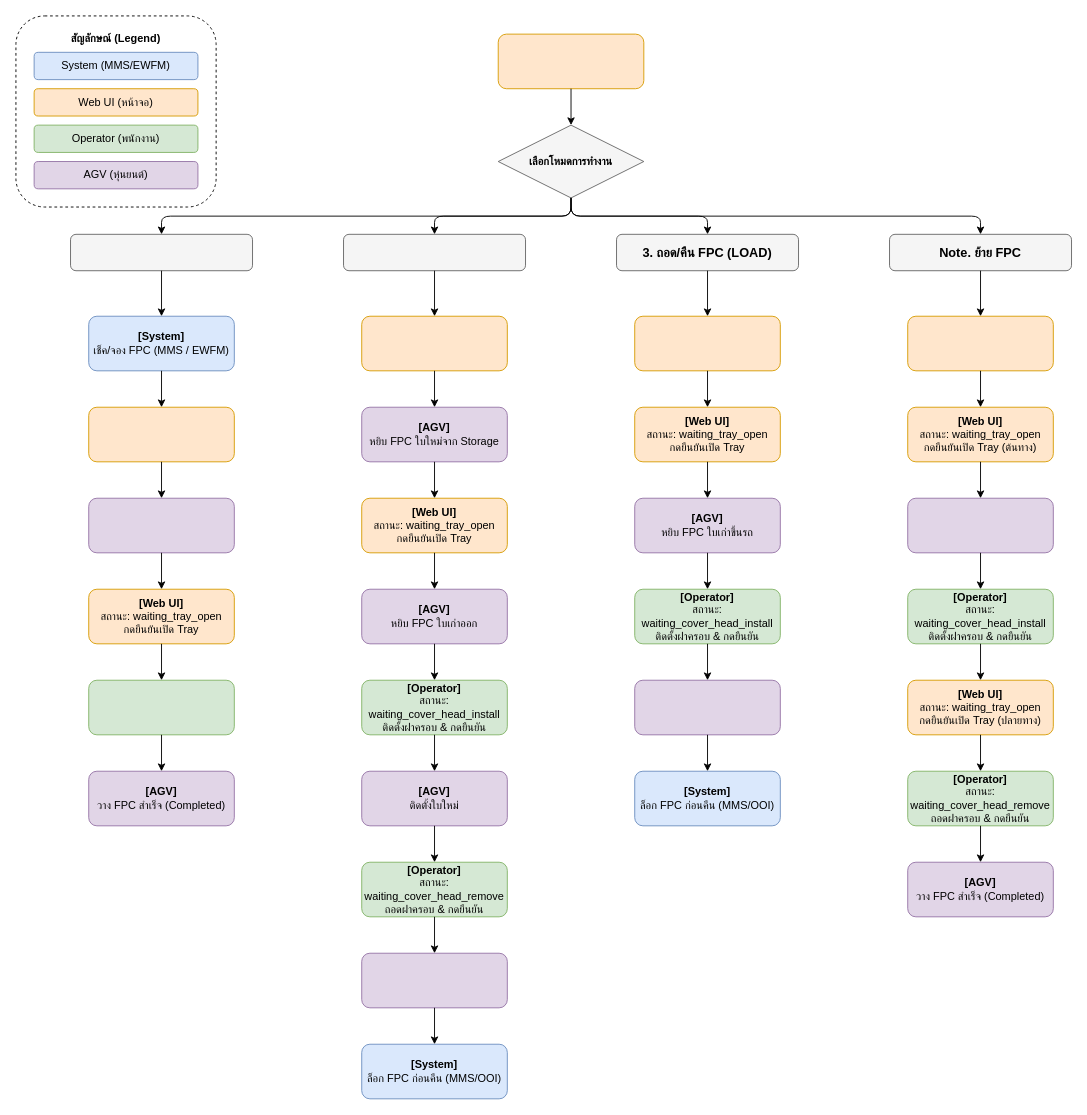
The diagram is 1087 pixels wide and 1115 high, and some of its shapes have lost their labels. Each missing label, with the centre of its shape:
1. เบิก FPC (UNLOAD): point (161, 252)
2. เปลี่ยน FPC (UNLOAD & LOAD): point (434, 252)
[AGV] รับ FPC จาก Smart Storage เคลื่อนไปเครื่องปลายทาง: point (161, 525)
[AGV] หยิบ FPC: point (980, 525)
[AGV] เก็บเข้า Storage (Completed): point (707, 707)
[AGV] เก็บใบเก่าเข้าคลัง: point (434, 980)
[Operator / Web UI] Login เข้า Web UI (หน้าจอคอมพิวเตอร์ / แท็บเล็ต): point (570, 61)
[Operator] สถานะ: waiting_cover_head_remove ถอดฝาครอบ & กดยืนยันที่ AGV: point (161, 707)
[Web UI] เลือก FPC & เครื่องปลายทาง: point (161, 434)
[Web UI] เลือก FPC ใบใหม่ & ปลายทาง: point (434, 343)
[Web UI] เลือกต้นทาง & ปลายทาง: point (980, 343)
[Web UI] เลือกเครื่องต้นทาง: point (707, 343)
